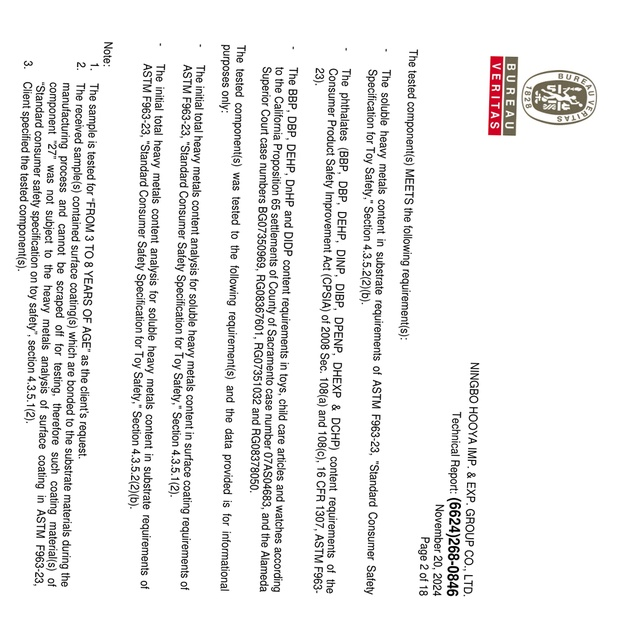bureau_veritas: (483, 52, 601, 148)
